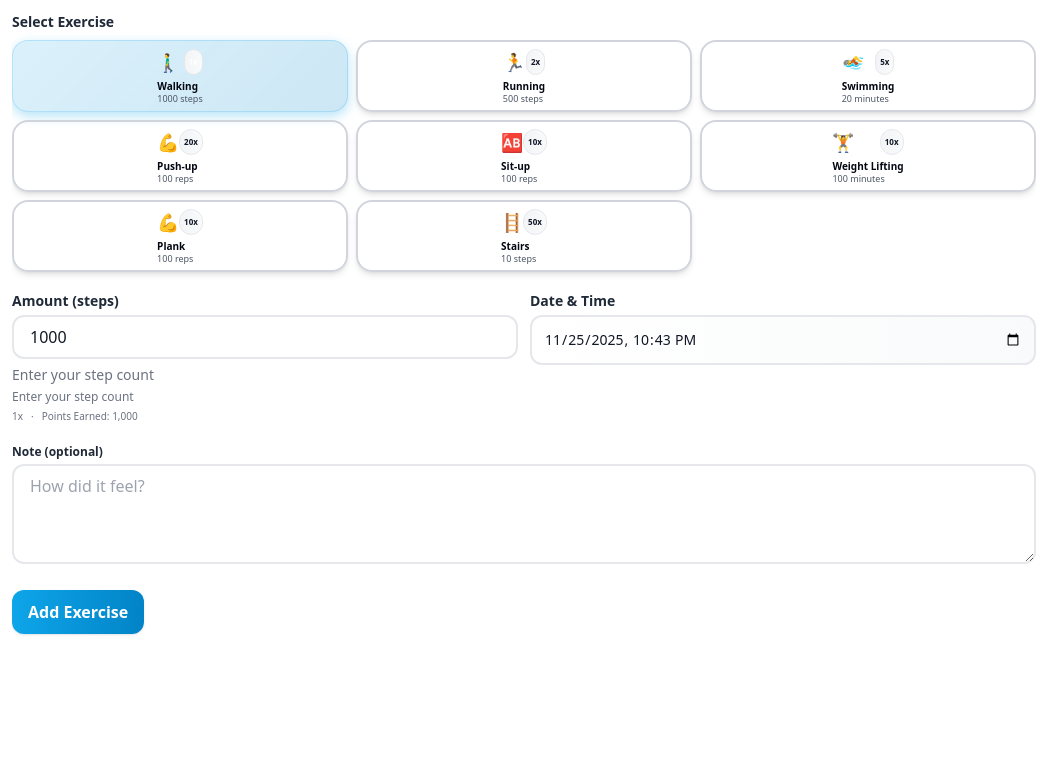
Test: ActivityForm › shows validation error when amount is invalid
Step 1. Replace the text in the number field labelled "Amount" with "0" → (265, 337), box [12,315,518,359]
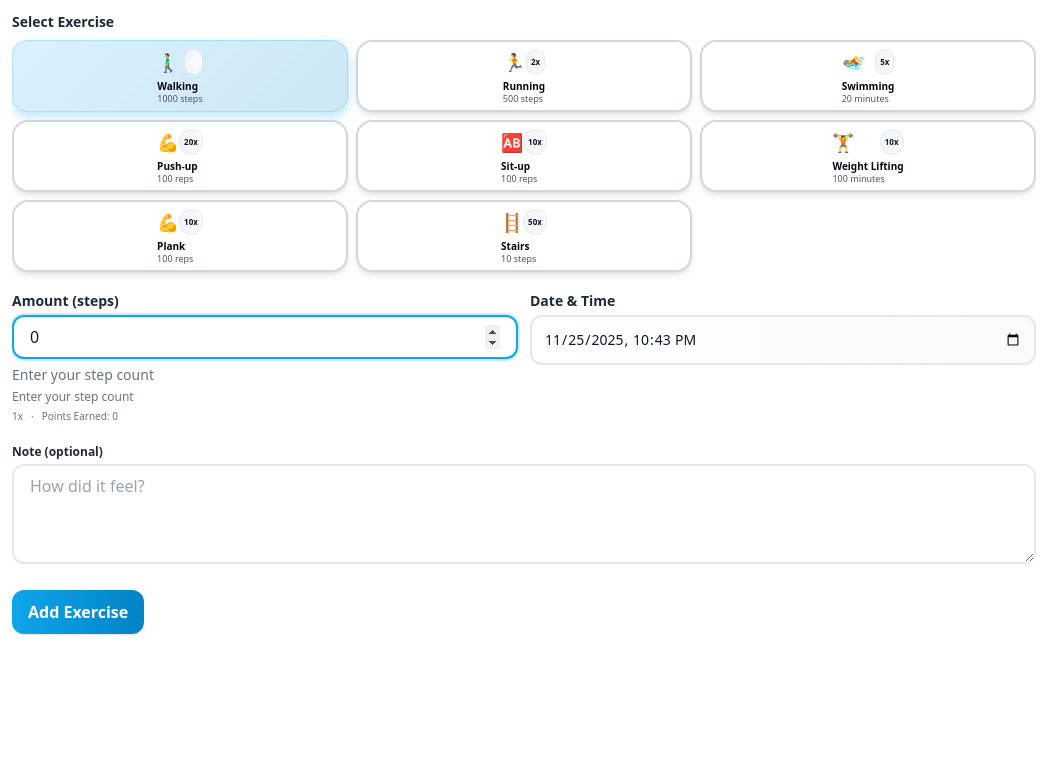
Step 2. Click the button "Add Exercise" → (78, 612), box [12,590,144,634]
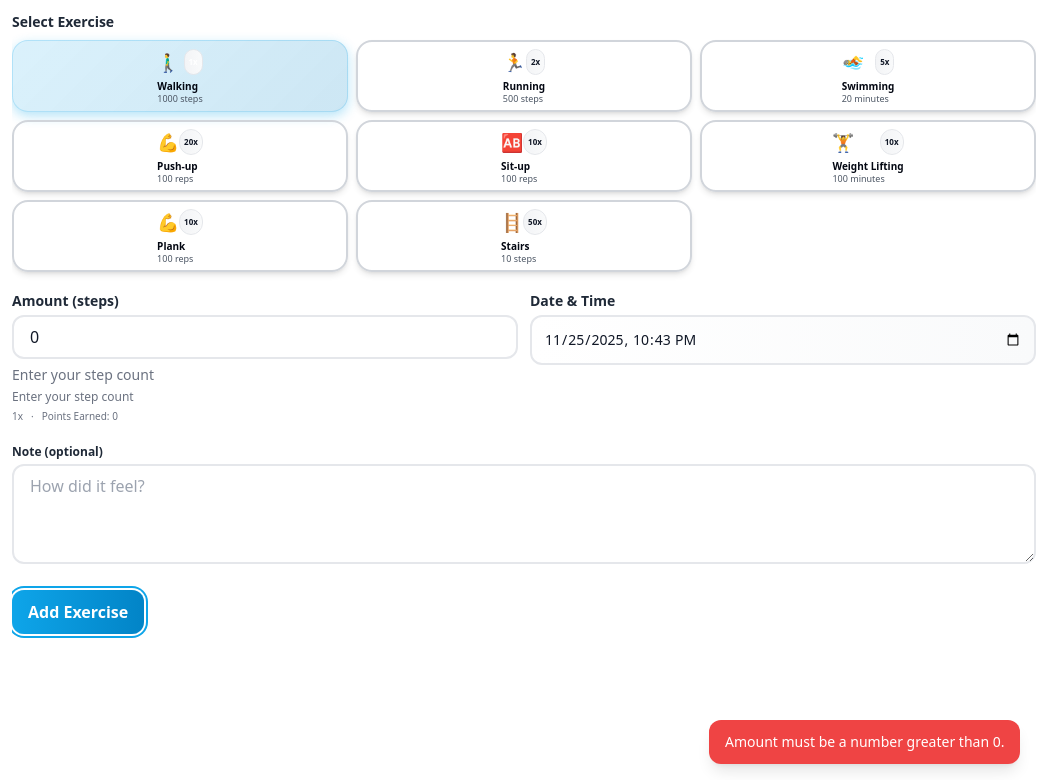
Expected: the text "Amount must be a number greater than 0." is shown, [708,720,1020,764]
